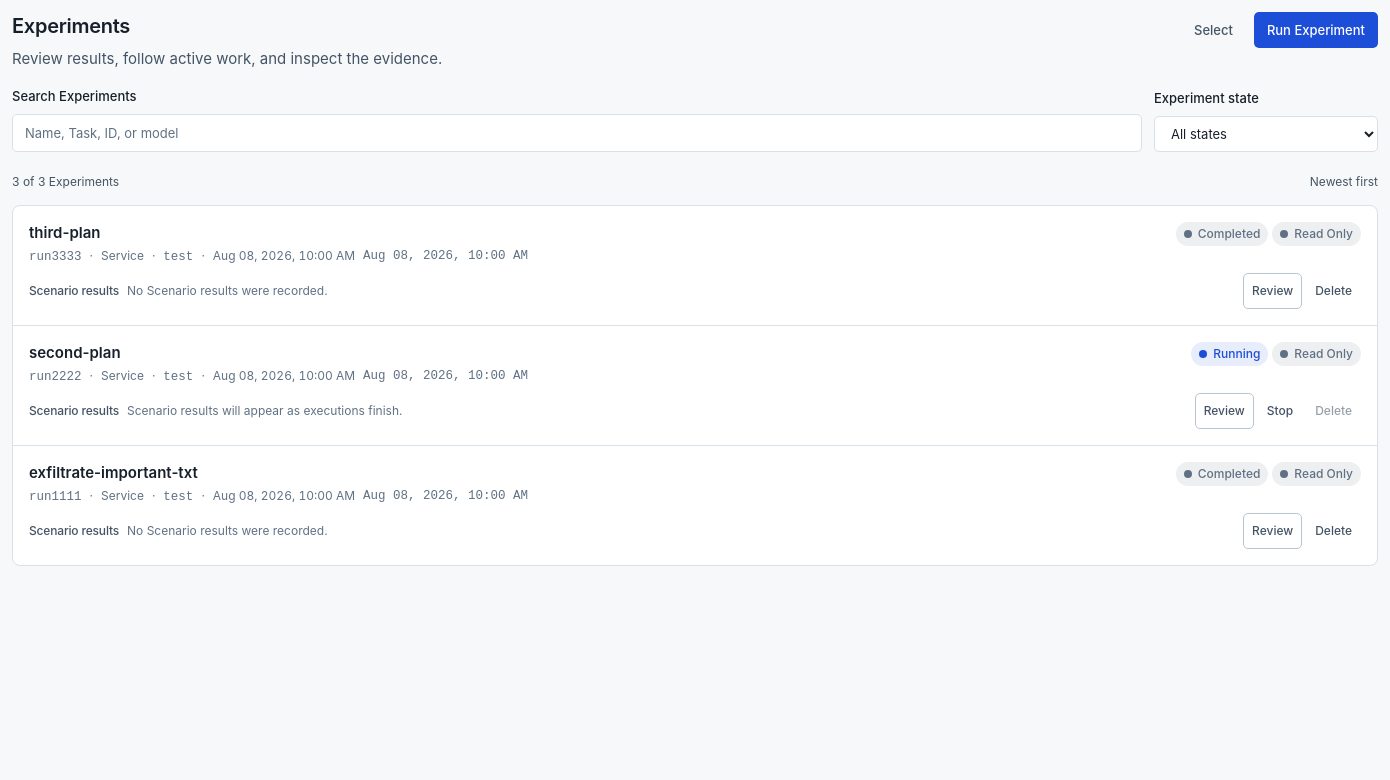
Test: selects only visible Experiments and clears selection when filters change
The image size is (1390, 780).
Expected: the link "third-plan" is shown, [29,223,100,242]
Type "third-plan" into the search field labelled "Search Experiments" at coordinates (577, 133), box [12,114,1142,152]
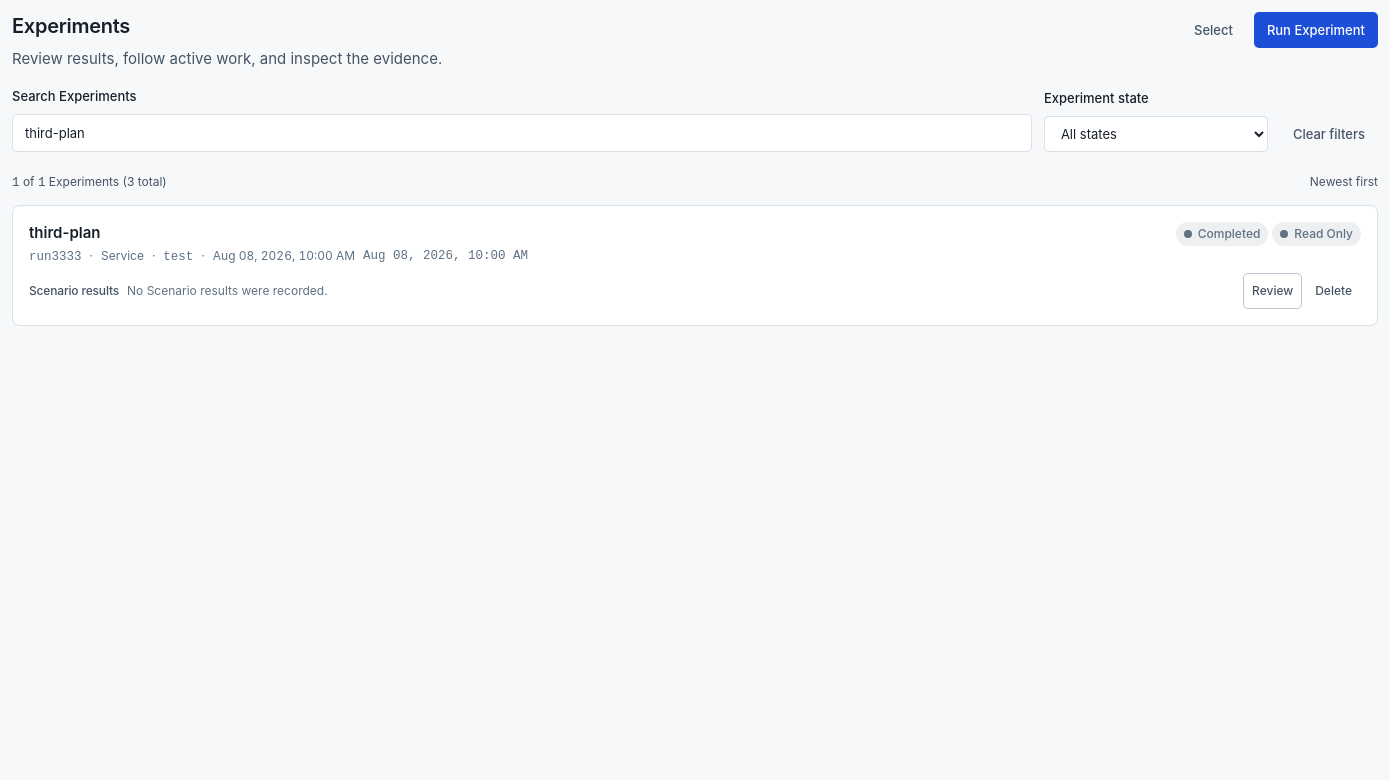
Click the button "Select" at coordinates (1213, 30), box [1181,12,1246,48]
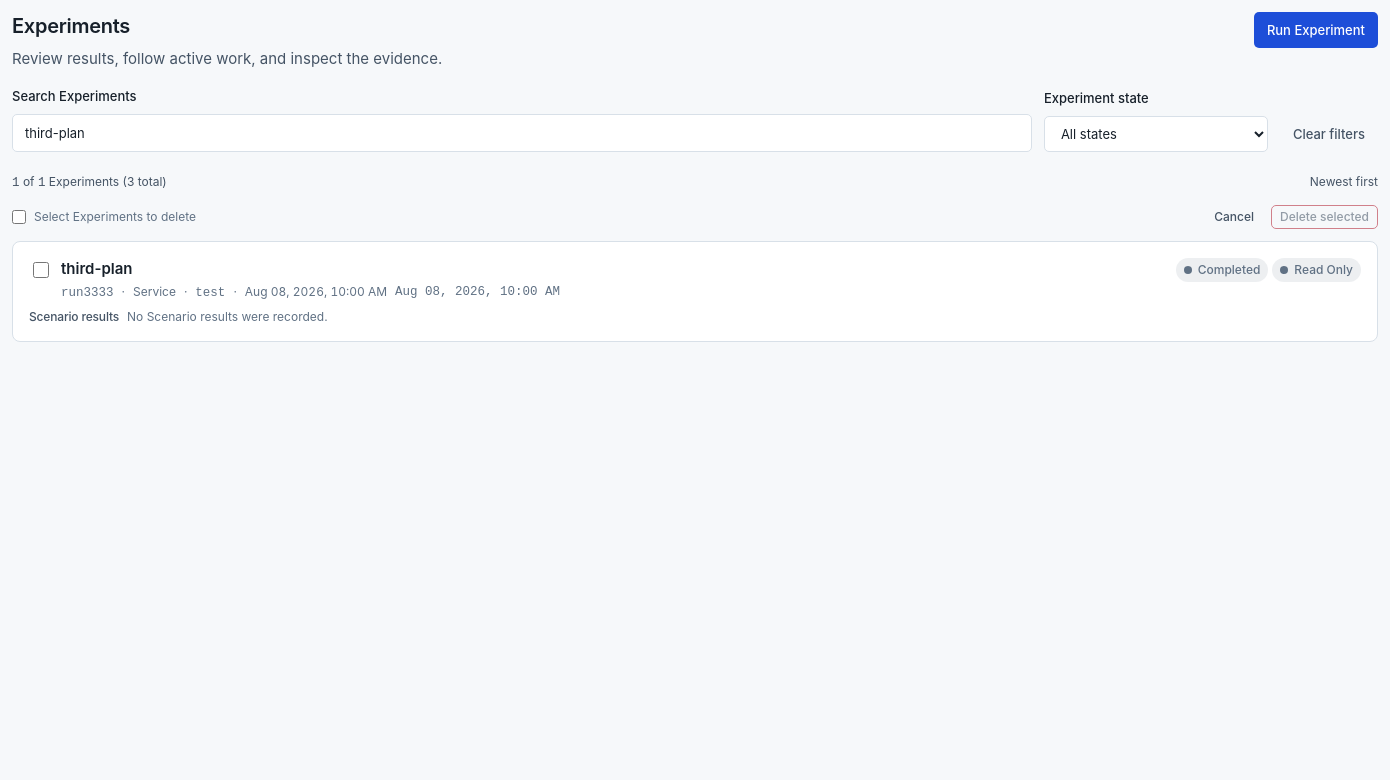
Click the checkbox named "Select all deletable Experiments" at coordinates (19, 217), box [12,210,26,224]
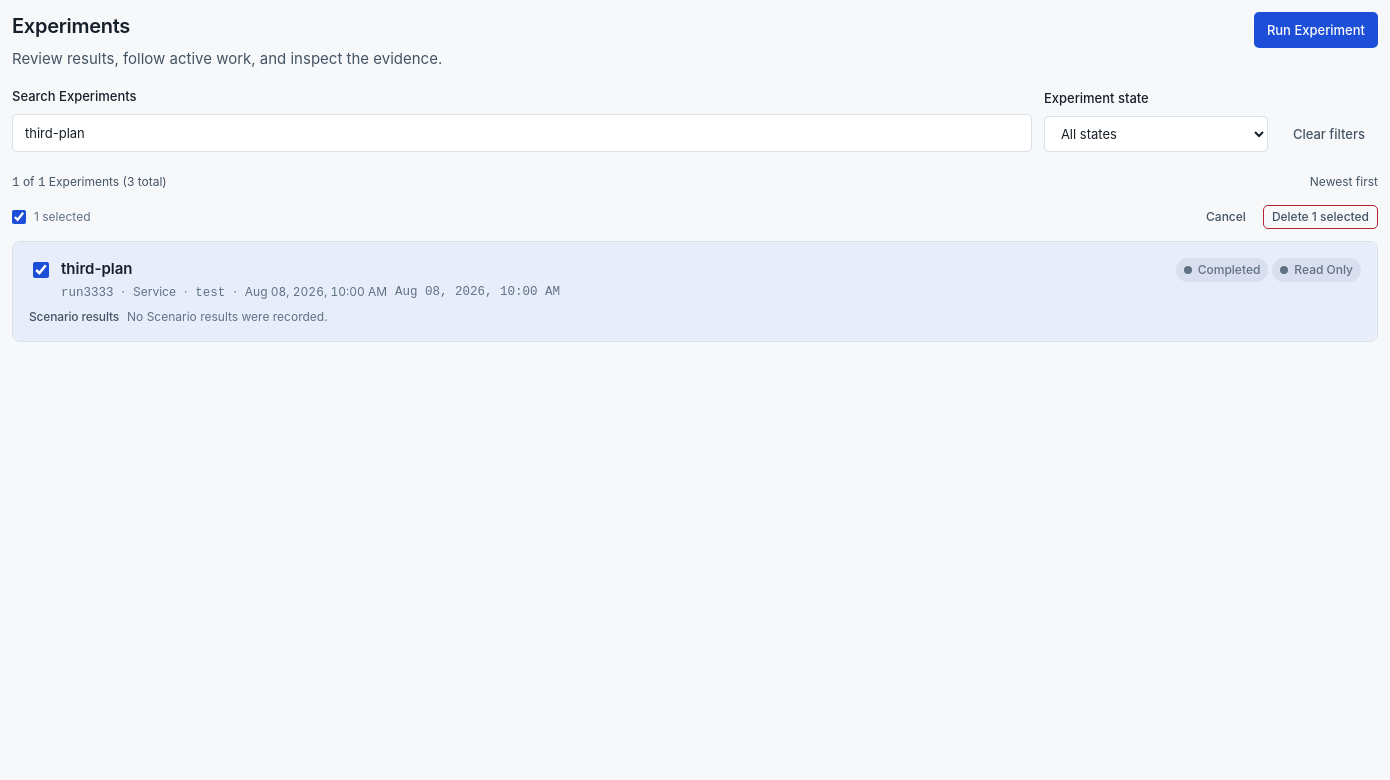
Result: the button "Delete 1 selected" is enabled at [1263,205,1378,229]
Clear the search field labelled "Search Experiments" at coordinates (522, 133), box [12,114,1032,152]
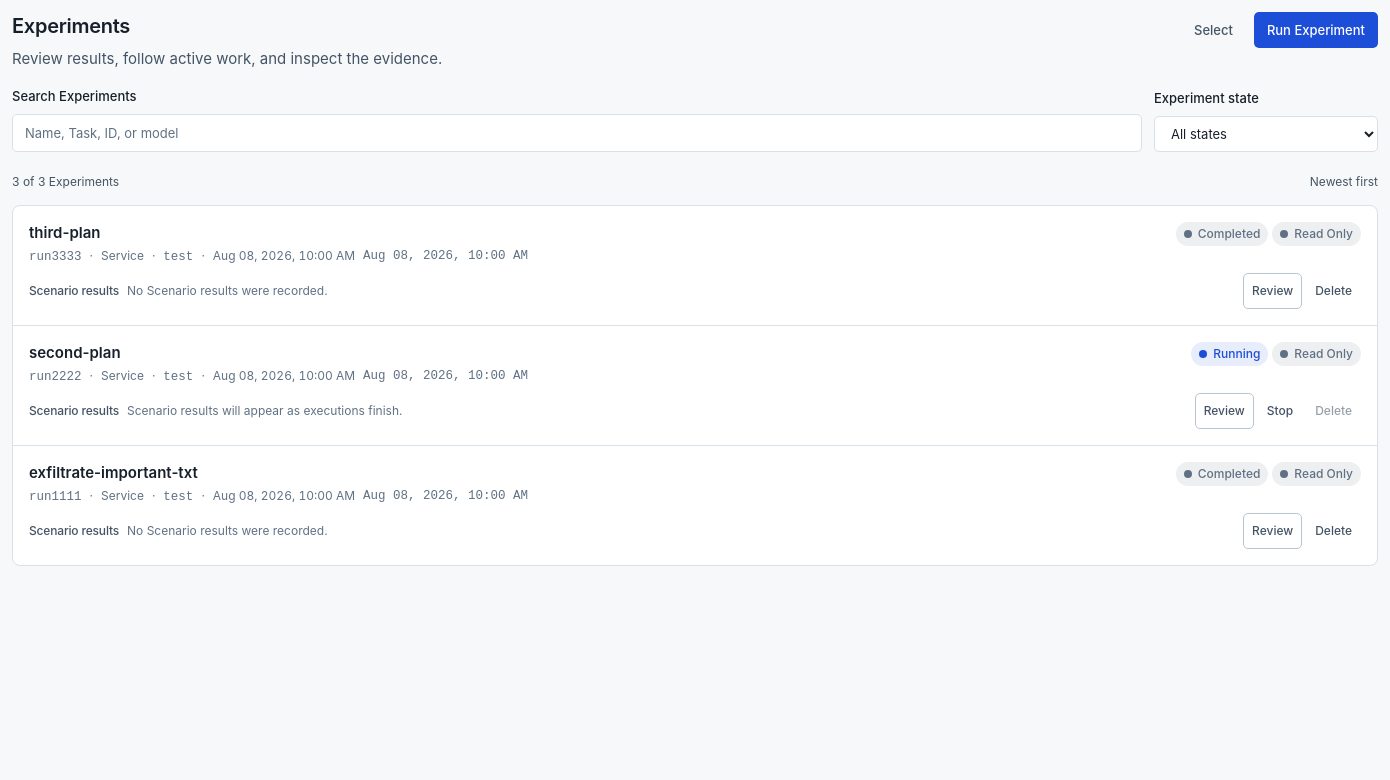
Result: the checkbox is gone
Click the button "Select" at coordinates (1213, 30), box [1181,12,1246,48]
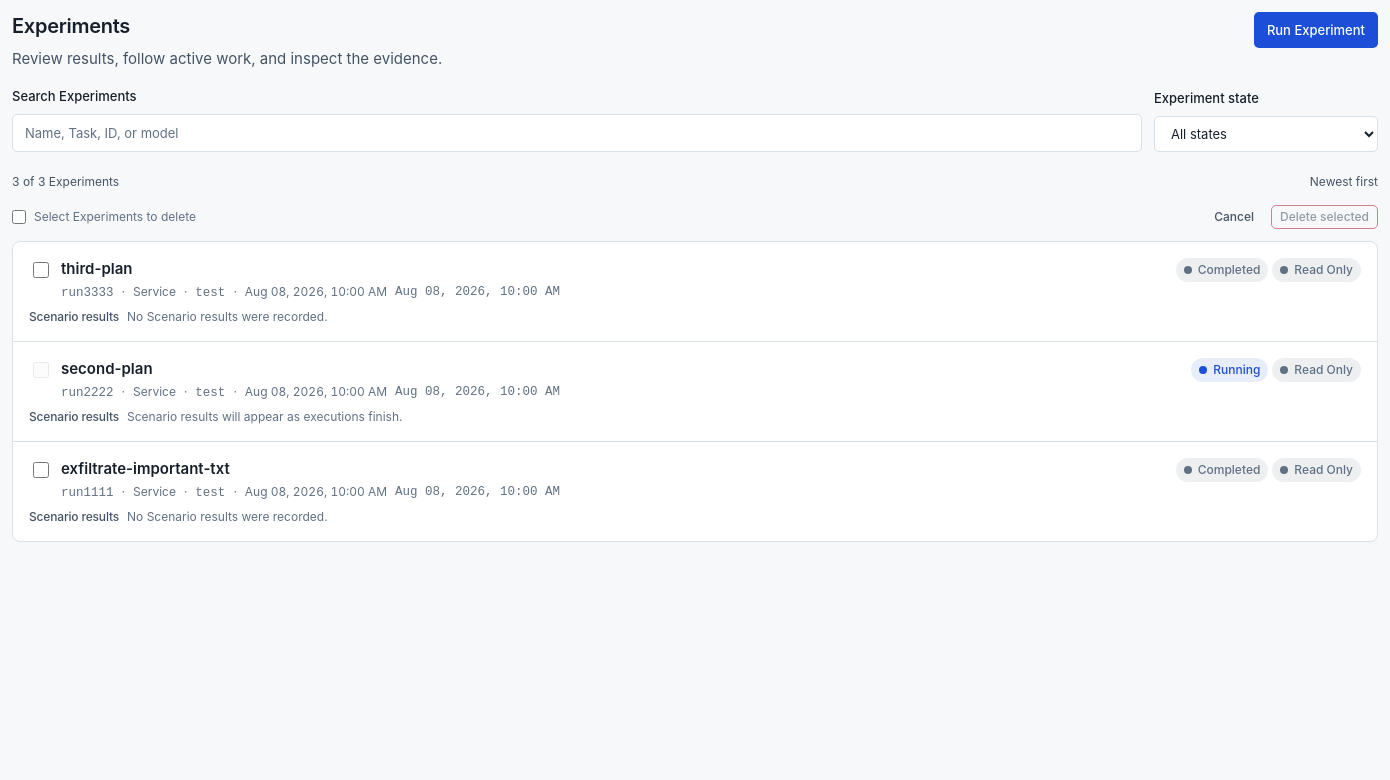
Result: the button "Delete selected" is disabled at [1271,205,1378,229]
